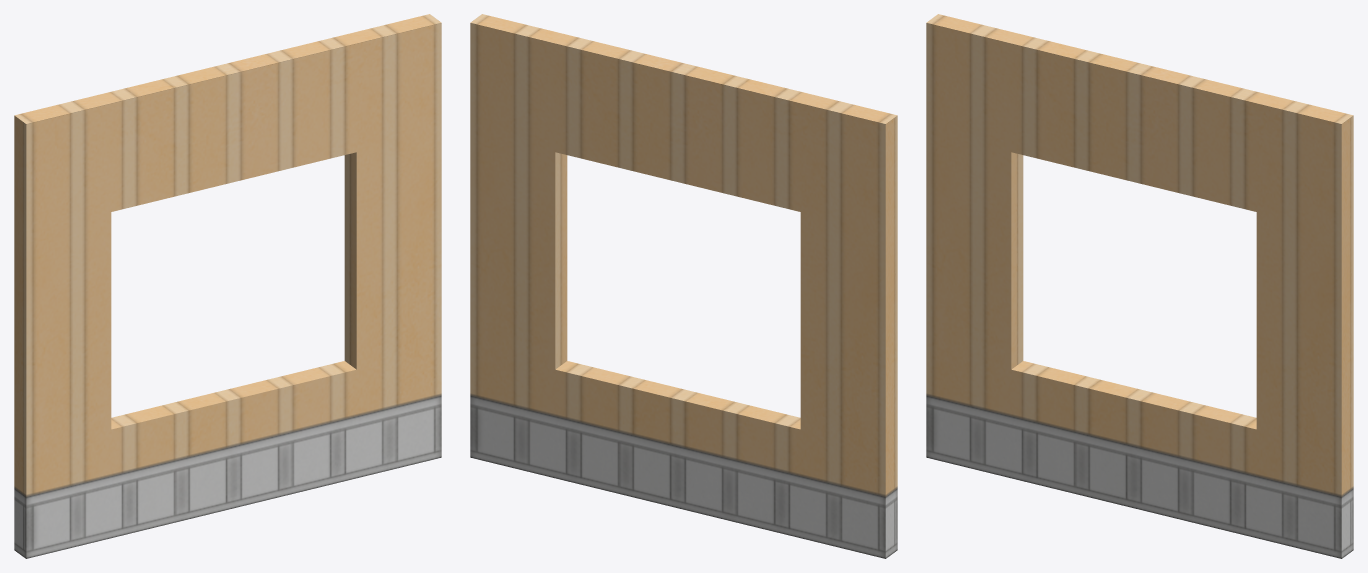
The model's file is Wall_8_C.fbx.
3 renders of one model, left to right at view 1: azimuth 30°, elevation 25°; view 2: azimuth 150°, elevation 25°; view 3: azimuth 330°, elevation 25°, orthographic.
Parts seen in each view (by area): view 1: pCube73; view 2: pCube73; view 3: pCube73.
Part boxes in pixels (<box>): pCube73: <box>14,14,441,558</box>; pCube73: <box>470,14,897,558</box>; pCube73: <box>926,14,1353,558</box>.
Size of the model in its own units: 4 by 4 by 0.2.
